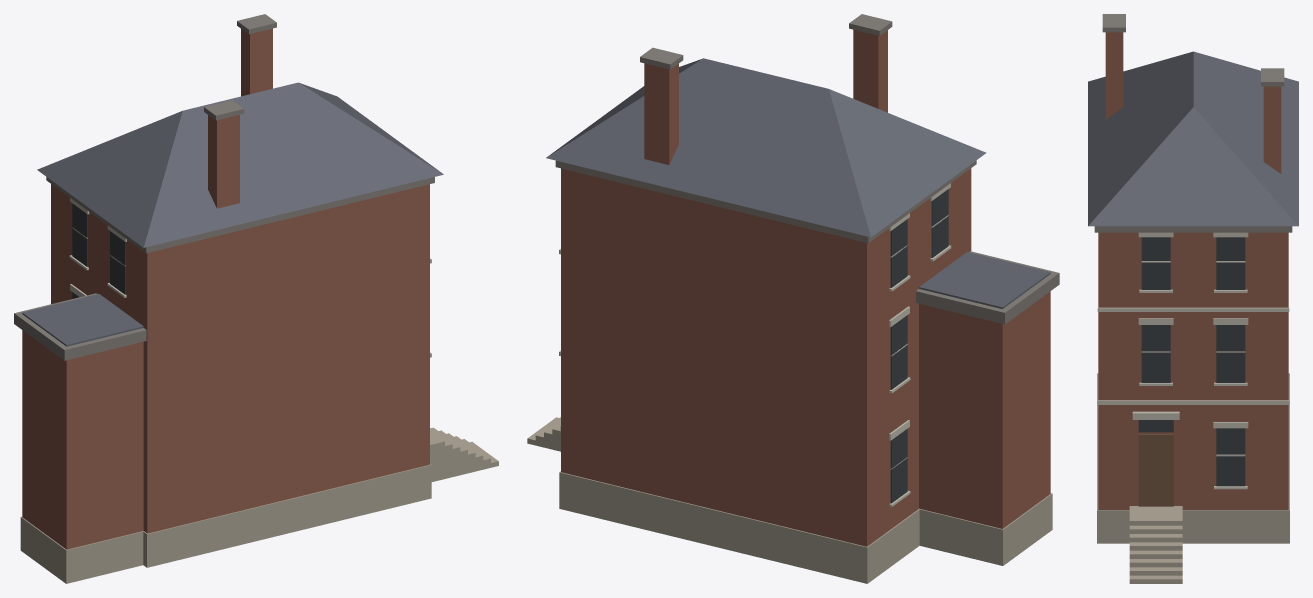
File: house_2007_indiana__draft_1904.glb
3 views of the same model, side by side, from view 1: azimuth 30°, elevation 25°; view 2: azimuth 150°, elevation 25°; view 3: azimuth 270°, elevation 25° (orthographic). The views are drawn at different scales.
Parts seen in each view (by area): view 1: house_2007_indiana__draft_1904; view 2: house_2007_indiana__draft_1904; view 3: house_2007_indiana__draft_1904.
Part boxes in pixels (x1=…): house_2007_indiana__draft_1904: x1=14, y1=14, x2=498, y2=583; house_2007_indiana__draft_1904: x1=527, y1=14, x2=1059, y2=583; house_2007_indiana__draft_1904: x1=1088, y1=14, x2=1298, y2=583.
Bounding box in the file's own units: 17.5 × 16.09 × 7.2.
